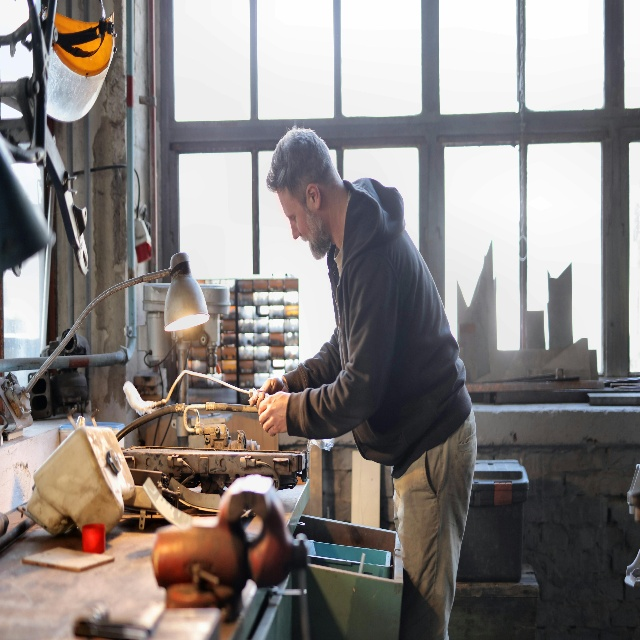Sin_guantes: (258, 390, 288, 436), (249, 376, 289, 410)
